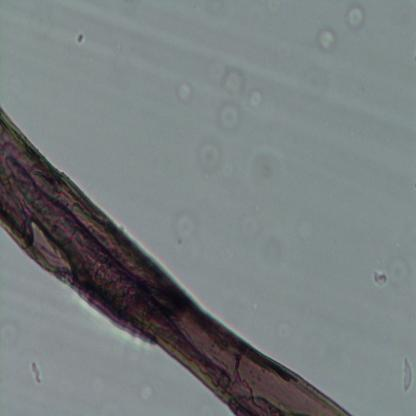Background material: (242, 216, 280, 274), (205, 57, 244, 95), (247, 146, 280, 190), (387, 250, 412, 290), (217, 100, 245, 135), (175, 209, 201, 242), (198, 140, 222, 175), (316, 25, 340, 56), (346, 4, 366, 32), (0, 323, 20, 351), (173, 79, 193, 103), (136, 379, 153, 406), (401, 356, 413, 394), (370, 269, 392, 289), (29, 361, 43, 388), (249, 90, 264, 110), (74, 33, 88, 45)
Cotton: (0, 106, 354, 414)
